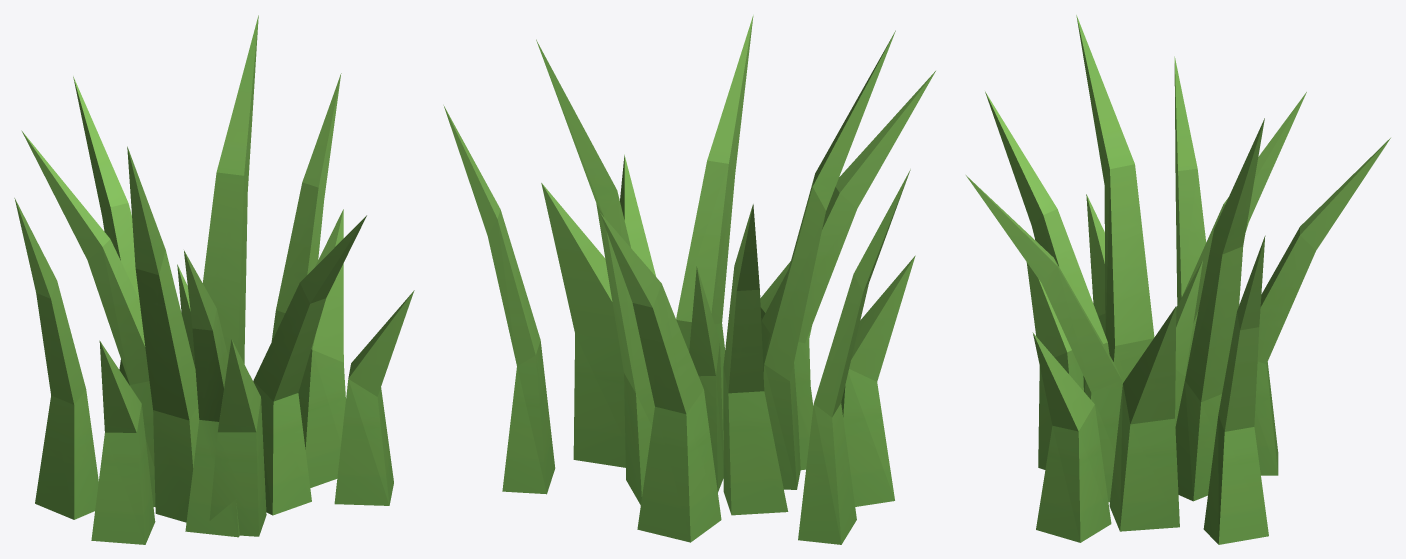
File: grass_tuft.glb
3 views of the same model, side by side, from view 1: azimuth 30°, elevation 25°; view 2: azimuth 150°, elevation 25°; view 3: azimuth 270°, elevation 25° (orthographic). The views are drawn at different scales.
Visible parts, largest first — view 1: grass_tuft; view 2: grass_tuft; view 3: grass_tuft.
Part boxes in pixels (x1=…): grass_tuft: x1=14, y1=15, x2=414, y2=544; grass_tuft: x1=443, y1=15, x2=935, y2=544; grass_tuft: x1=966, y1=15, x2=1390, y2=544.
Bounding box in the file's own units: 0.4275 × 0.45 × 0.4292.
Materials: 1 (1 with a texture image).
